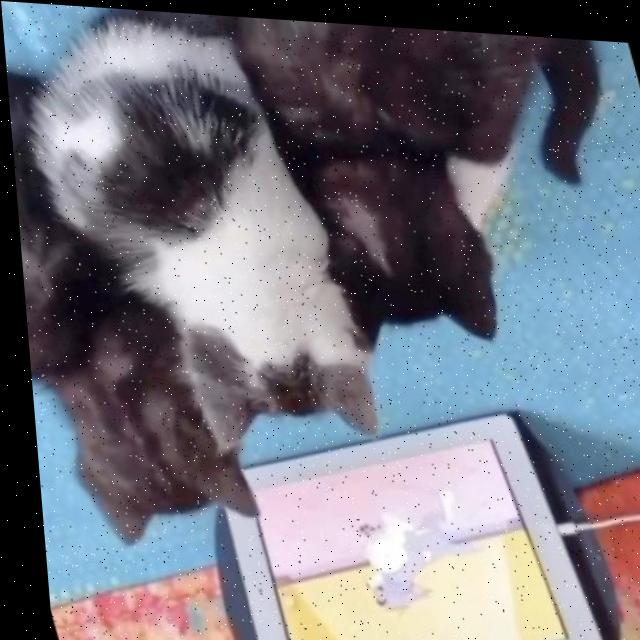Cats: (8, 0, 385, 489), (223, 12, 640, 386), (2, 28, 261, 587)
